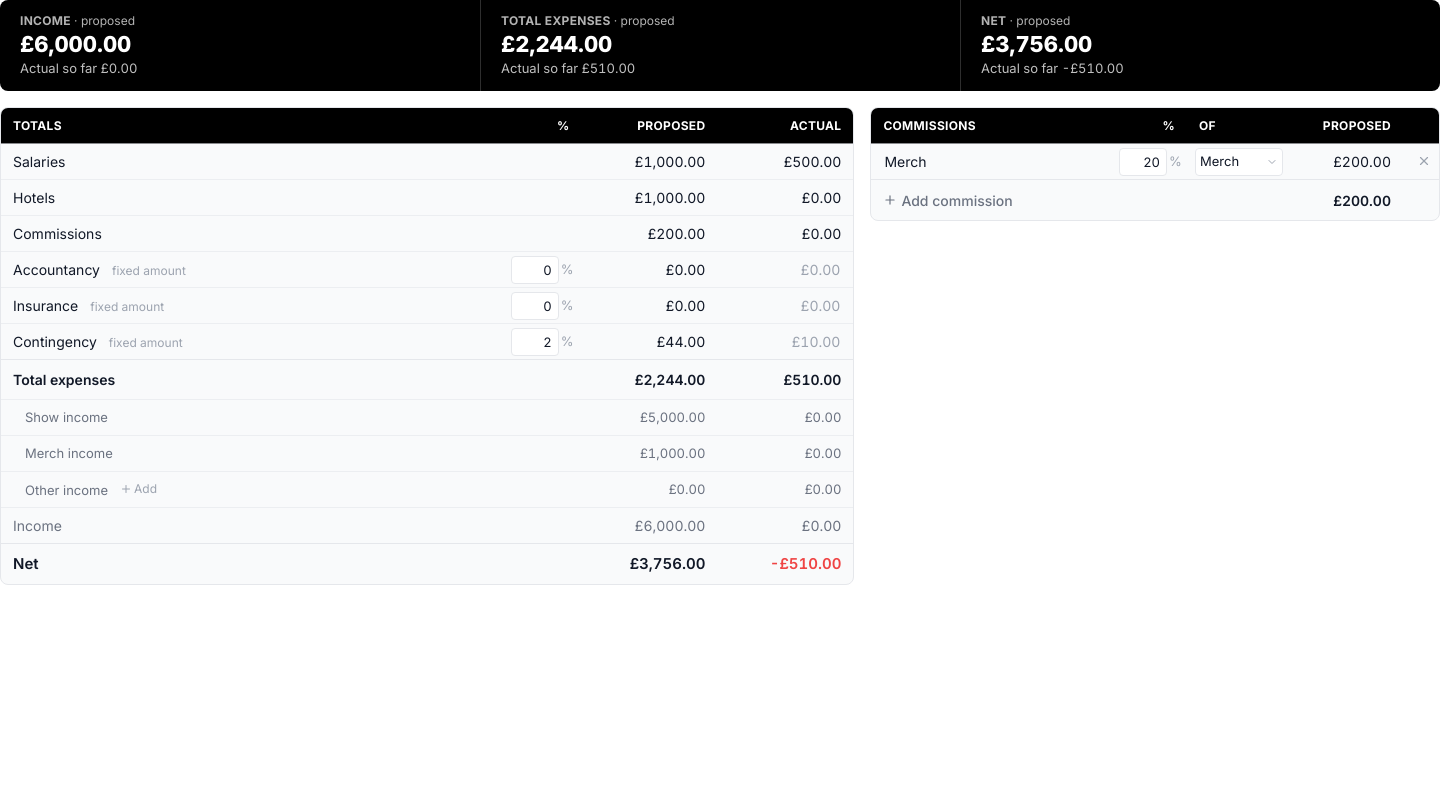
<BudgetSheetTop> › changing a commission % saves through the commissions route
Replace the text in the field named "Merch percentage" with "15" at (1143, 162), box [1119,148,1167,176]
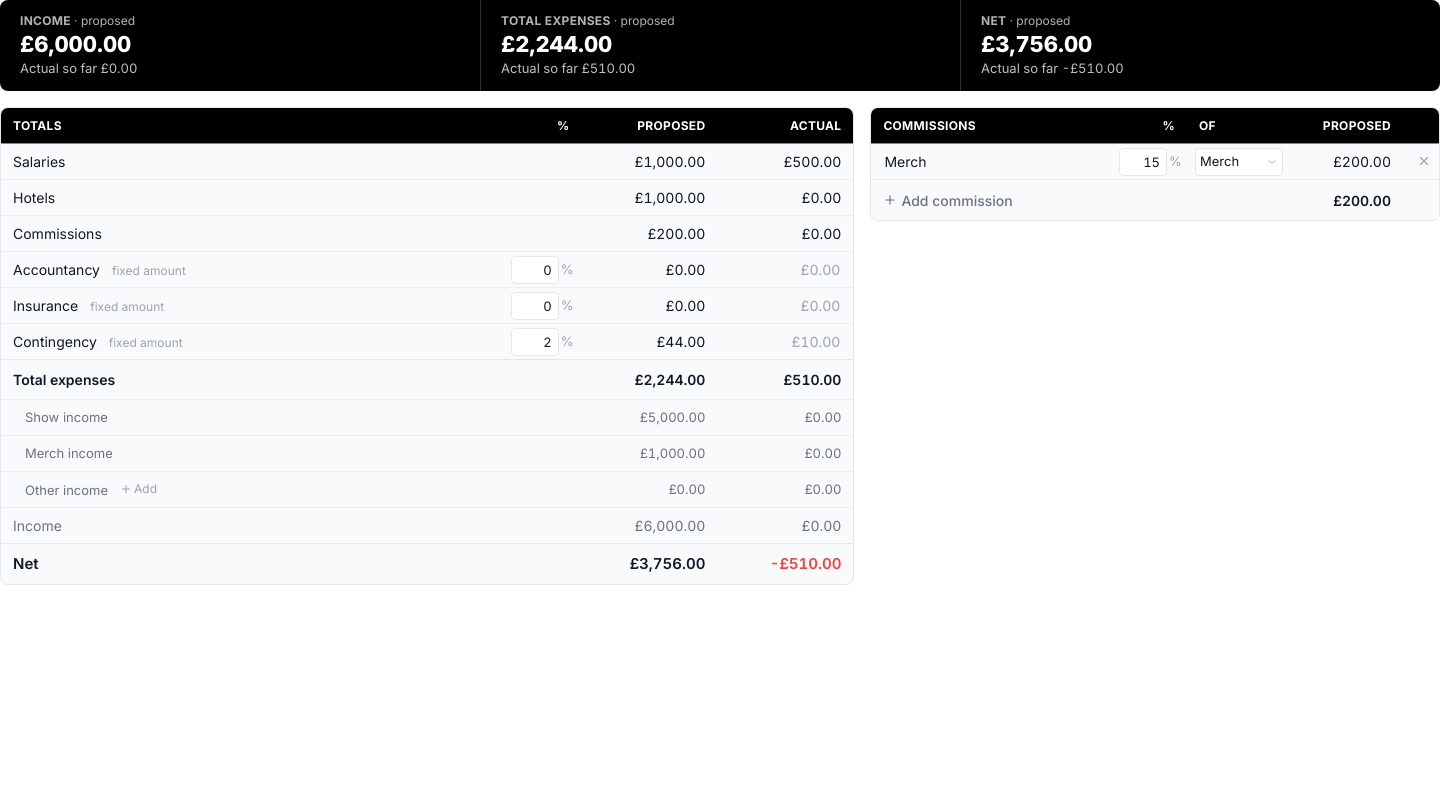
Leave the field named "Merch percentage", box [1119,148,1167,176]
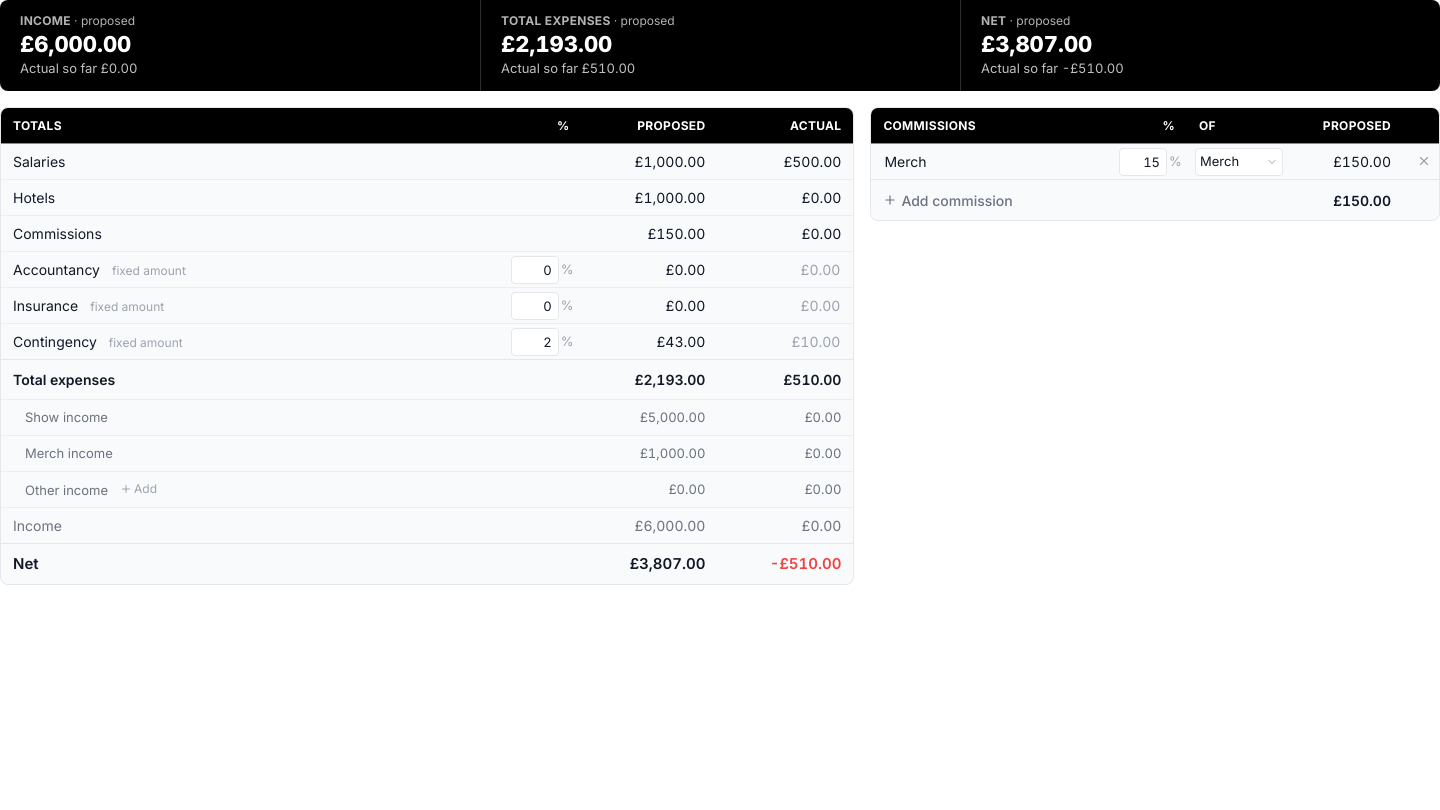
Now the 1st text "£150.00" is shown, box [1291,144,1403,180]
